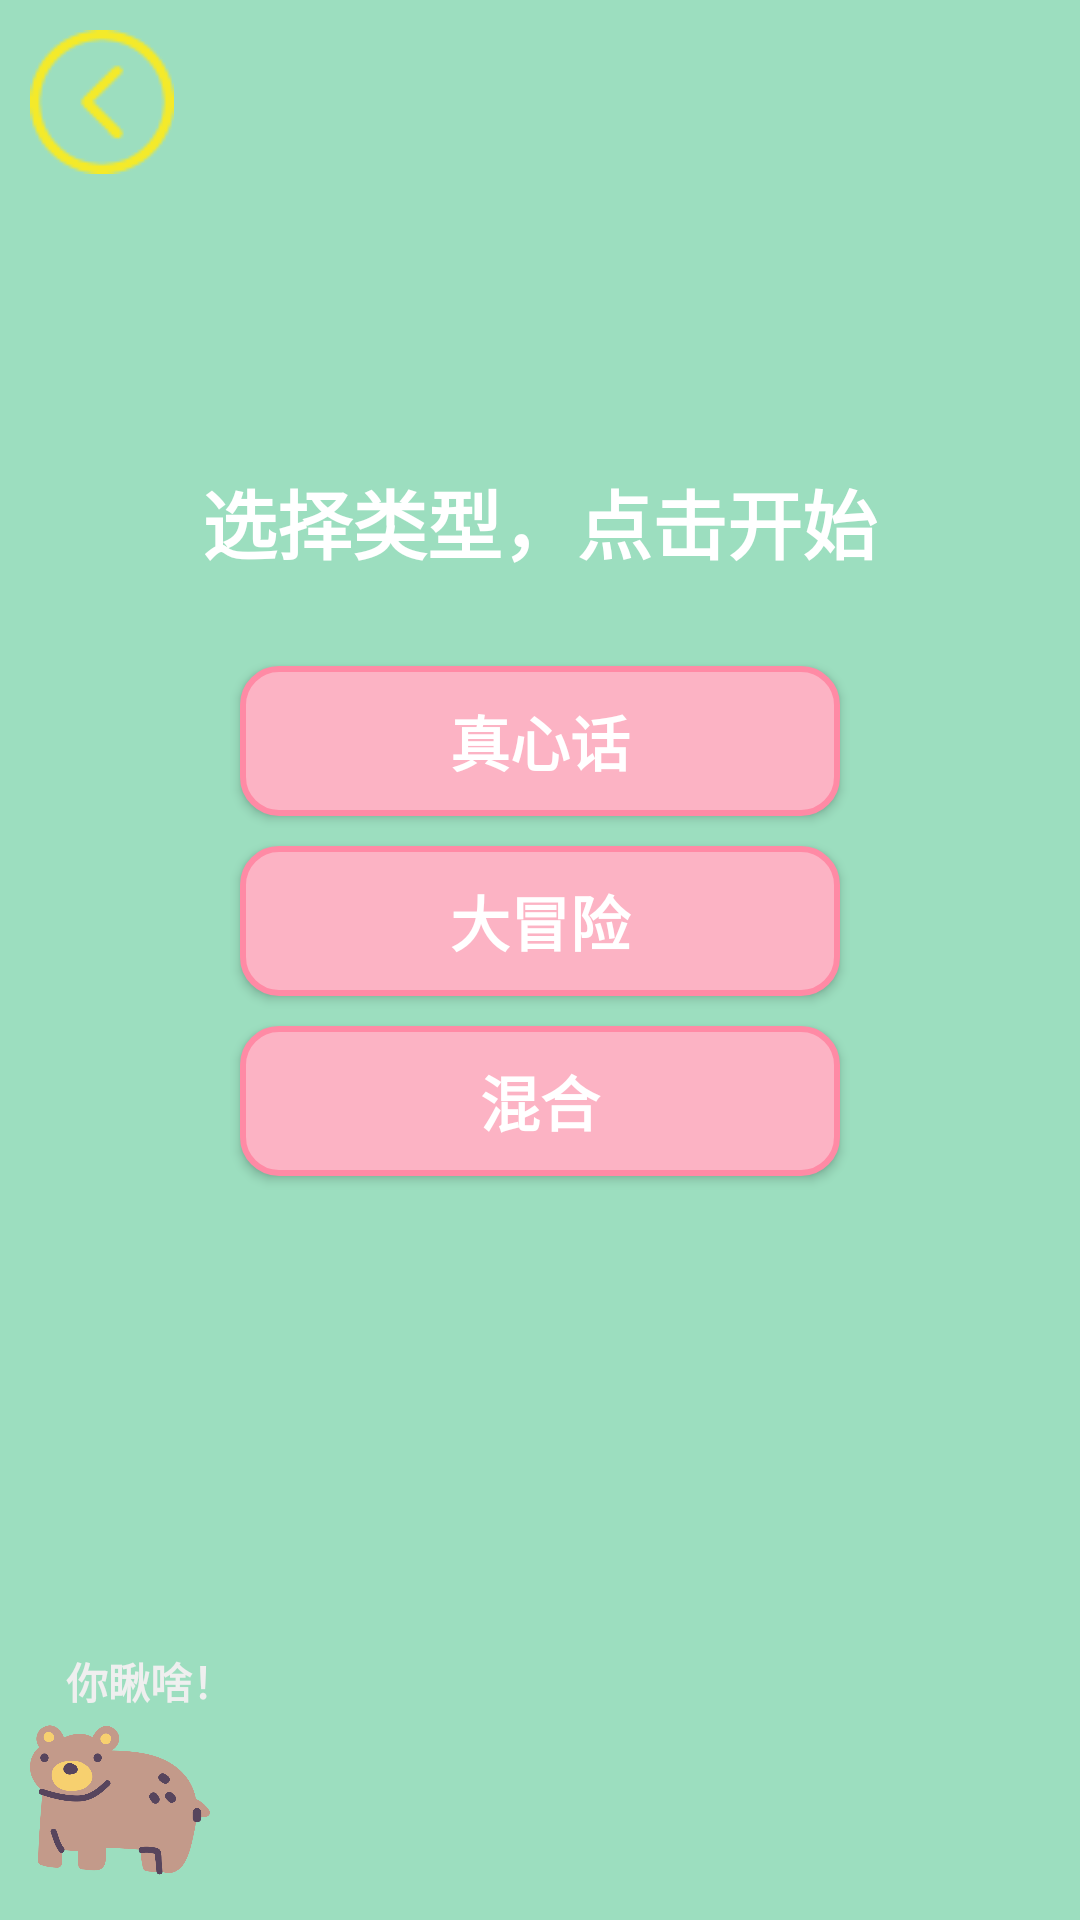

Where to tap for icons on this 1080 × 1920 app screen, as [x,y]:
back: [102,102]
xiong: [120,1800]
